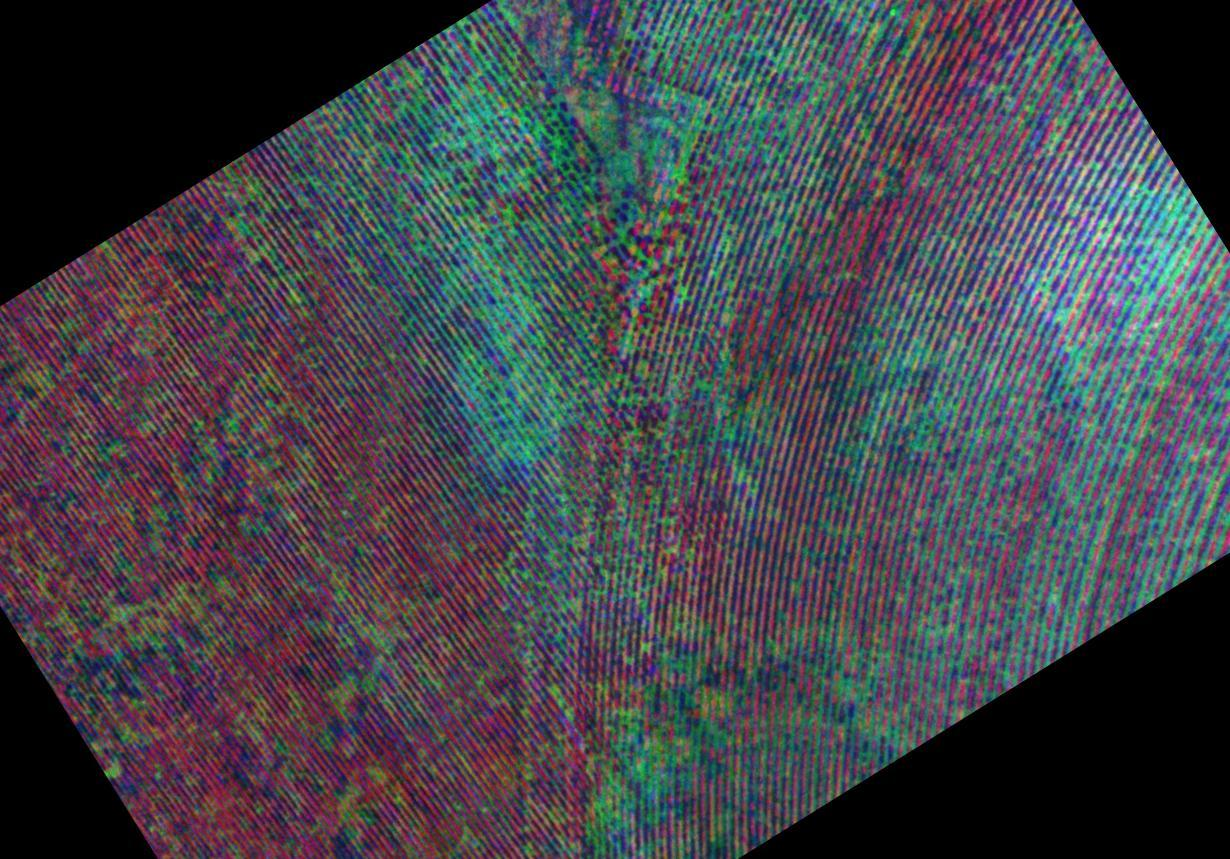dc: (446, 270, 567, 447), (636, 65, 780, 190), (773, 628, 893, 762), (591, 690, 689, 853), (446, 80, 560, 201), (846, 318, 945, 452), (1113, 188, 1206, 277)
